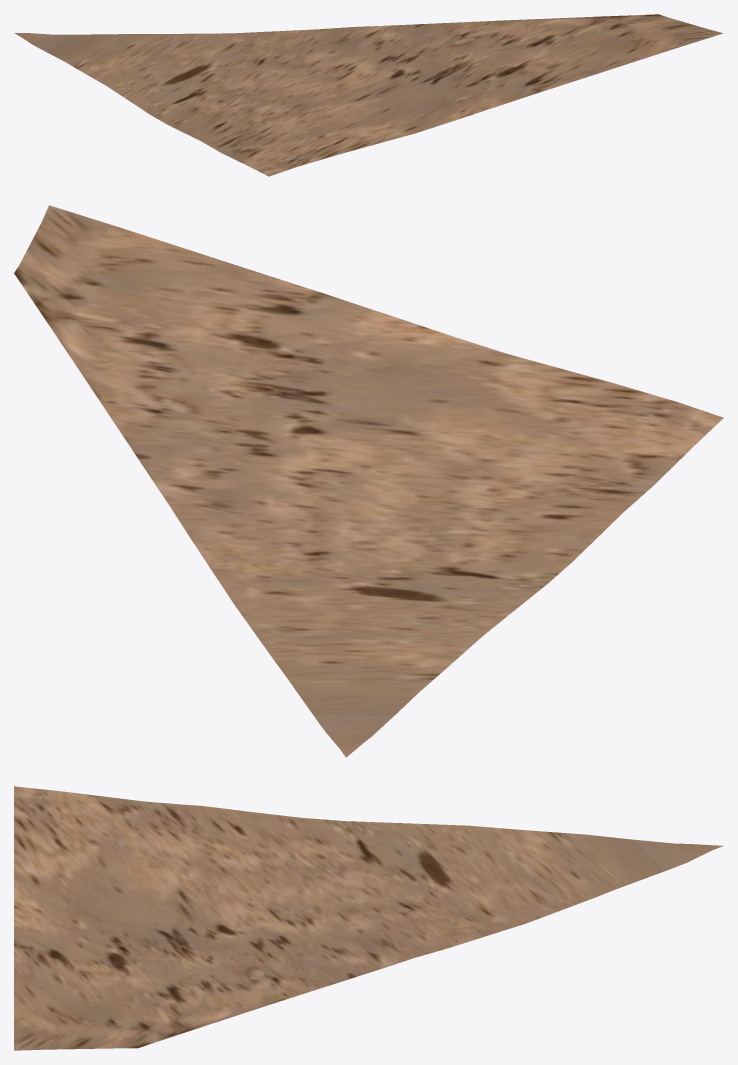
3 renders of one model, top to bottom at view 1: azimuth 30°, elevation 25°; view 2: azimuth 150°, elevation 25°; view 3: azimuth 270°, elevation 25°, orthographic. The views are drawn at different scales.
Size of the model in its own units: 6.52 by 1.03 by 6.32.
1 material, 1 textured.
